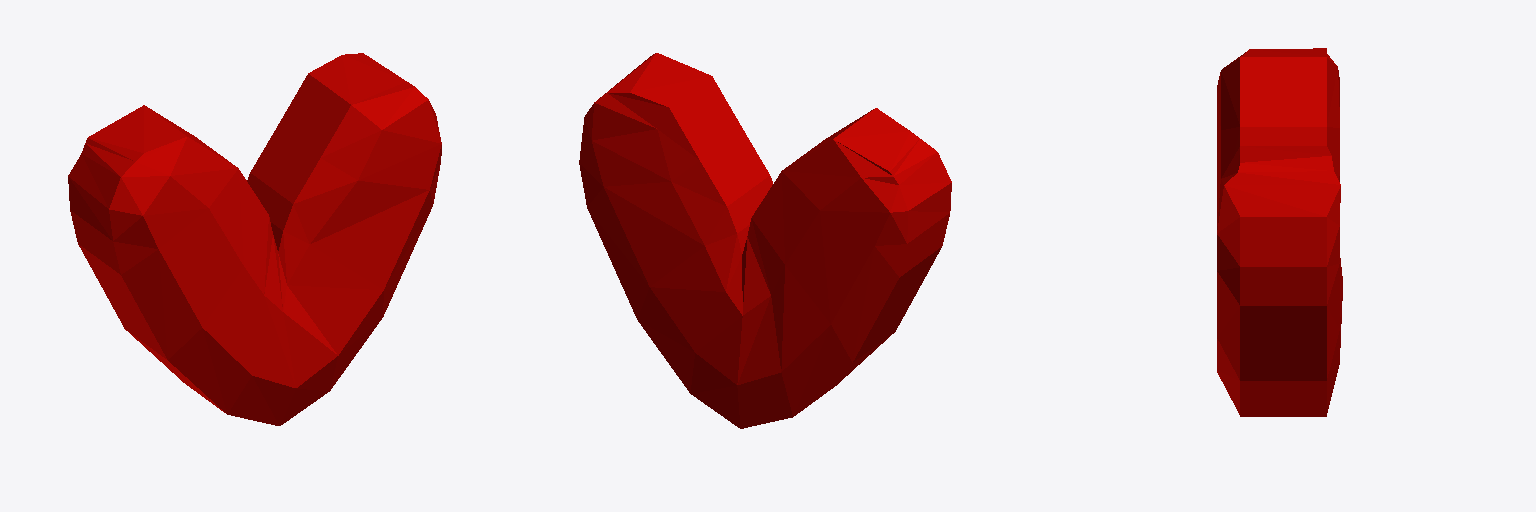
File: heart.obj
3 views of the same model, side by side, from view 1: azimuth 30°, elevation 25°; view 2: azimuth 150°, elevation 25°; view 3: azimuth 270°, elevation 25° (orthographic).
Visible parts, largest first — view 1: Plane; view 2: Plane; view 3: Plane.
Part boxes in pixels (x1,y1,x2,y2): Plane: (68,53,441,425); Plane: (579,53,951,428); Plane: (1217,48,1342,416).
Bounding box in the file's own units: 2.06 × 1.87 × 0.6793.